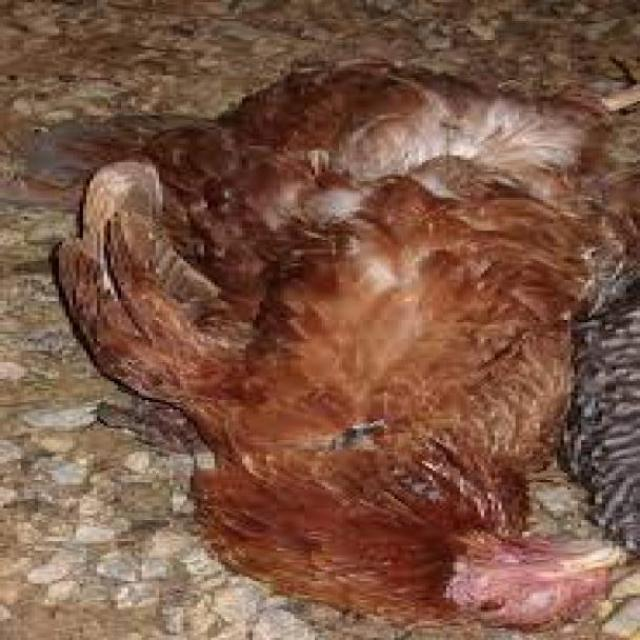Chicken: (51, 63, 640, 637)
